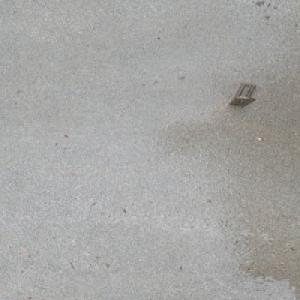MetalPart: (227, 83, 257, 107)
